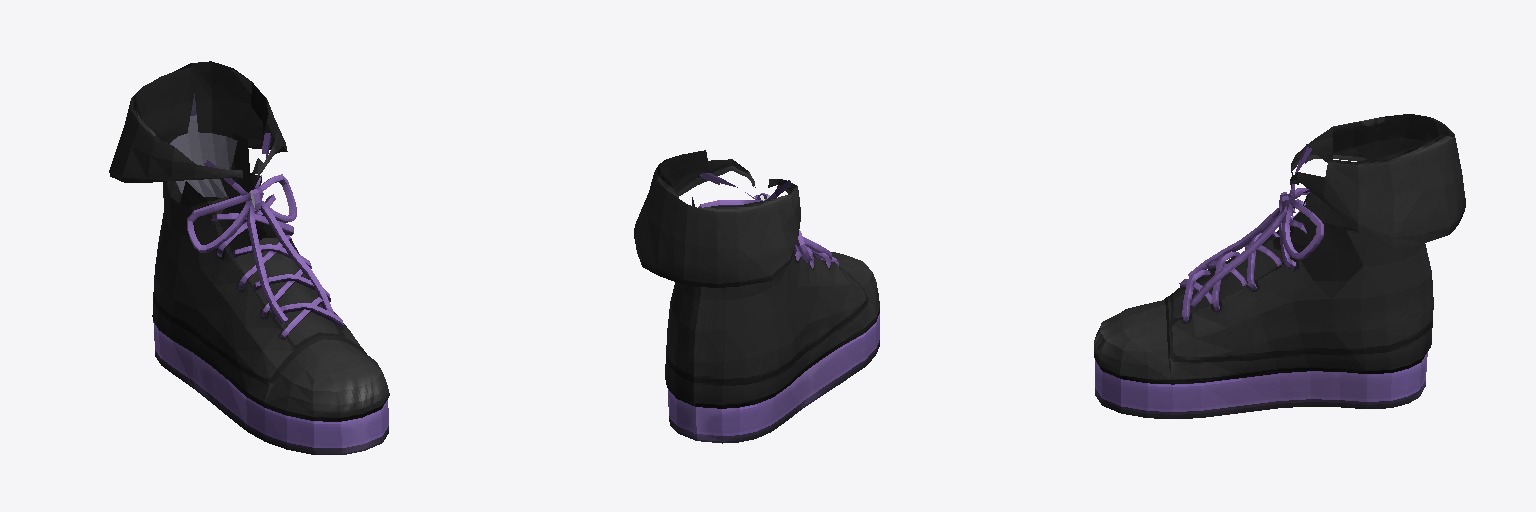
3 views of the same model, side by side, from view 1: azimuth 30°, elevation 25°; view 2: azimuth 150°, elevation 25°; view 3: azimuth 270°, elevation 25° (orthographic).
Visible parts, largest first — view 1: feet_R; view 2: feet_R; view 3: feet_R.
Boxes of the visible parts, x1=… form: feet_R: x1=109, y1=61, x2=389, y2=454; feet_R: x1=634, y1=150, x2=879, y2=443; feet_R: x1=1094, y1=114, x2=1465, y2=418.
Size of the model in its own units: 0.1065 by 0.1708 by 0.2196.
2 materials, 2 textured.